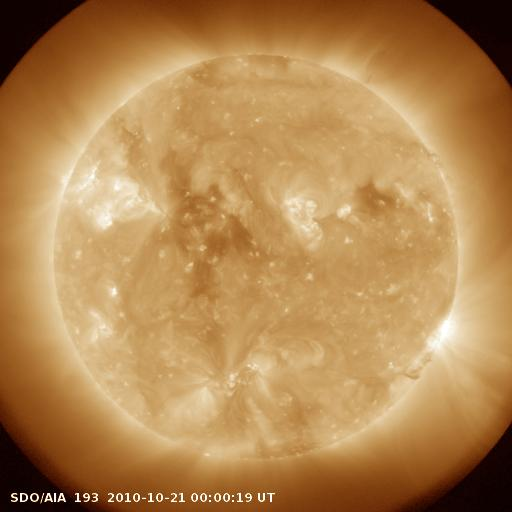coronal_hole: (159, 147, 265, 296), (352, 177, 403, 223)
